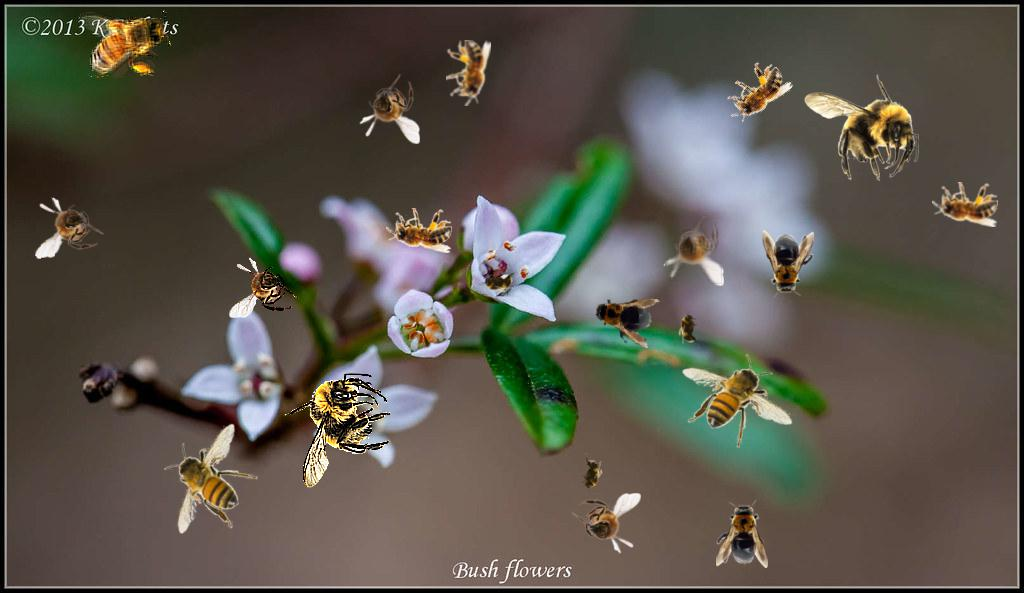Bee: (804, 74, 919, 181), (284, 373, 391, 488), (164, 423, 258, 534), (682, 354, 793, 448), (78, 10, 171, 78), (717, 54, 795, 133), (584, 285, 662, 351), (31, 193, 106, 259), (663, 216, 724, 286), (571, 493, 641, 554), (359, 74, 420, 144), (229, 257, 299, 318), (762, 230, 814, 298), (716, 500, 768, 568), (932, 182, 998, 227), (446, 40, 491, 106), (386, 208, 452, 253), (575, 452, 607, 498), (478, 271, 518, 293), (678, 308, 700, 348)
